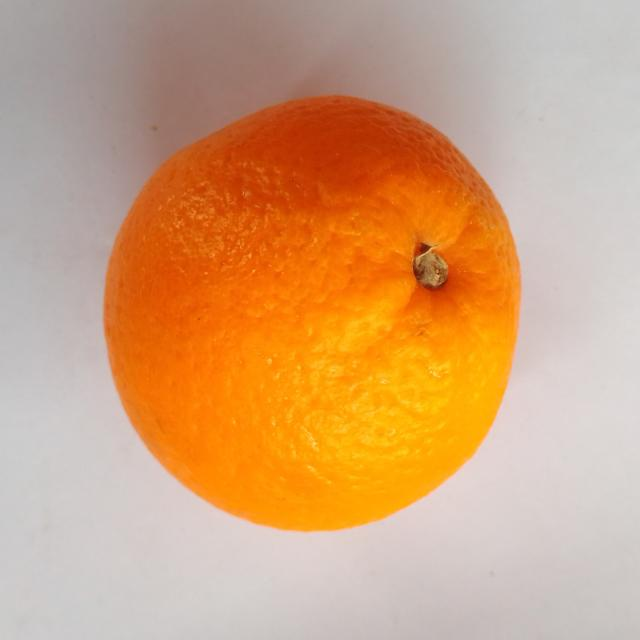orange: (105, 97, 519, 529)
